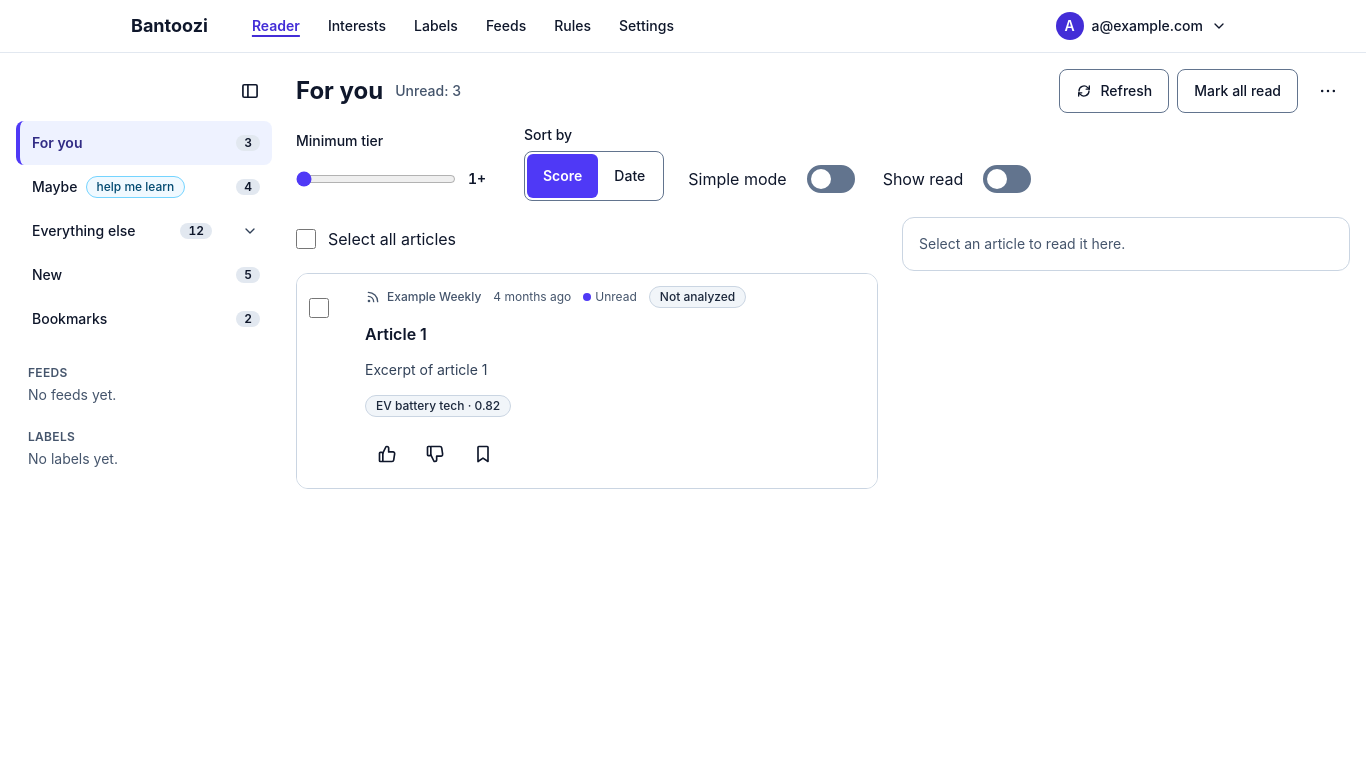
Scenario: saving an article that was opened › keeps its texts and nothing of the ranking
Click the button "Article 1" at (396, 334), box [365,312,865,356]
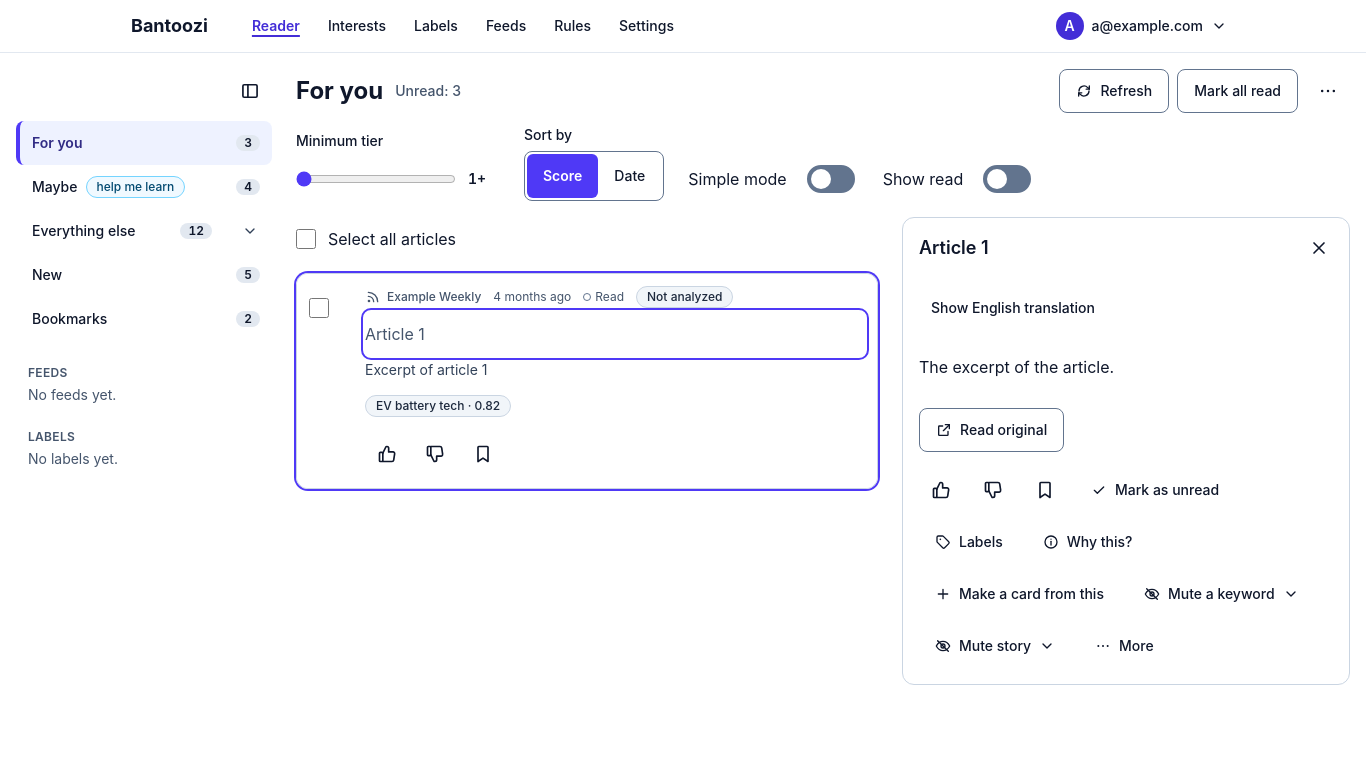
expect the text "The excerpt of the article." is shown: met, box [919,357,1114,377]
